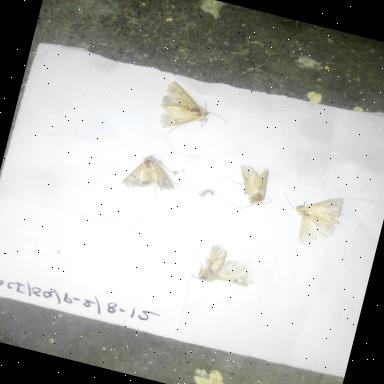abw: (143, 76, 238, 152), (267, 177, 351, 257), (112, 143, 198, 207), (188, 229, 266, 296), (216, 152, 286, 220)
